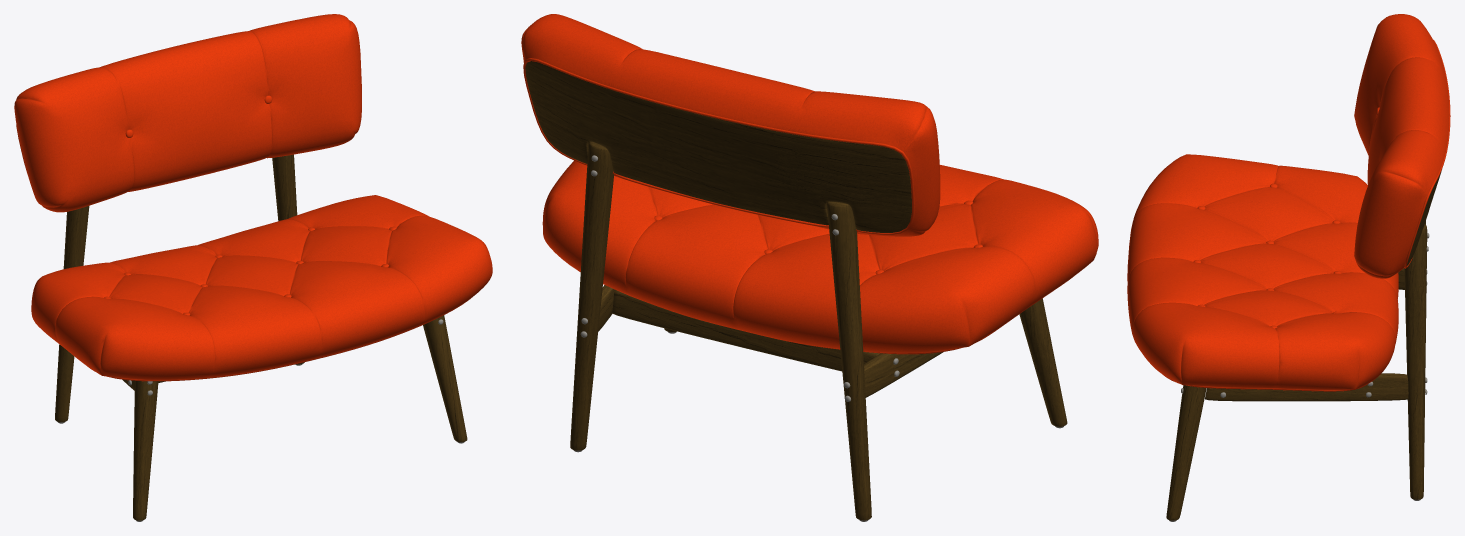
File: SheenChair.glb
3 renders of one model, left to right at view 1: azimuth 30°, elevation 25°; view 2: azimuth 150°, elevation 25°; view 3: azimuth 270°, elevation 25°, orthographic. The views are drawn at different scales.
Visible parts, largest first — view 1: SheenChair_fabric, SheenChair_wood; view 2: SheenChair_fabric, SheenChair_wood; view 3: SheenChair_fabric, SheenChair_wood.
Part boxes in pixels (x1,y1,x2,y2): SheenChair_fabric: (14,14,492,381); SheenChair_wood: (55,154,467,520); SheenChair_fabric: (521,14,1098,354); SheenChair_wood: (525,61,1067,520); SheenChair_fabric: (1127,14,1450,391); SheenChair_wood: (1166,170,1441,520).
Bounding box in the file's own units: 0.8266 × 0.6862 × 0.5703.
4 materials, 3 textured.
